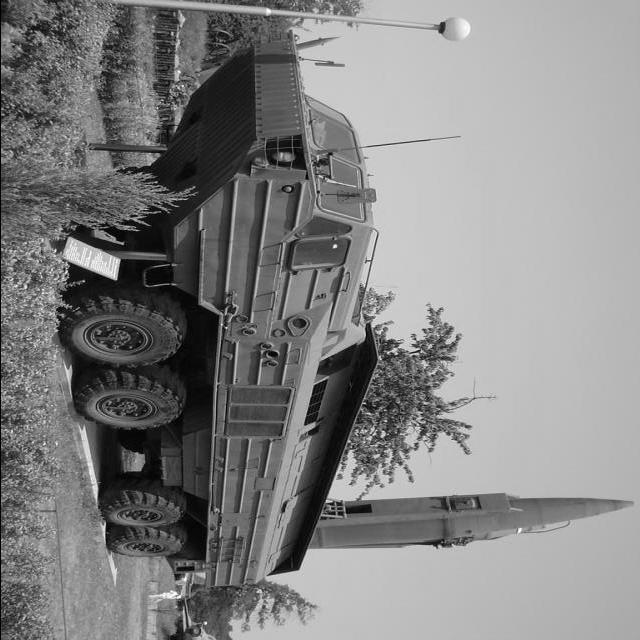Missile: (296, 484, 640, 561)
